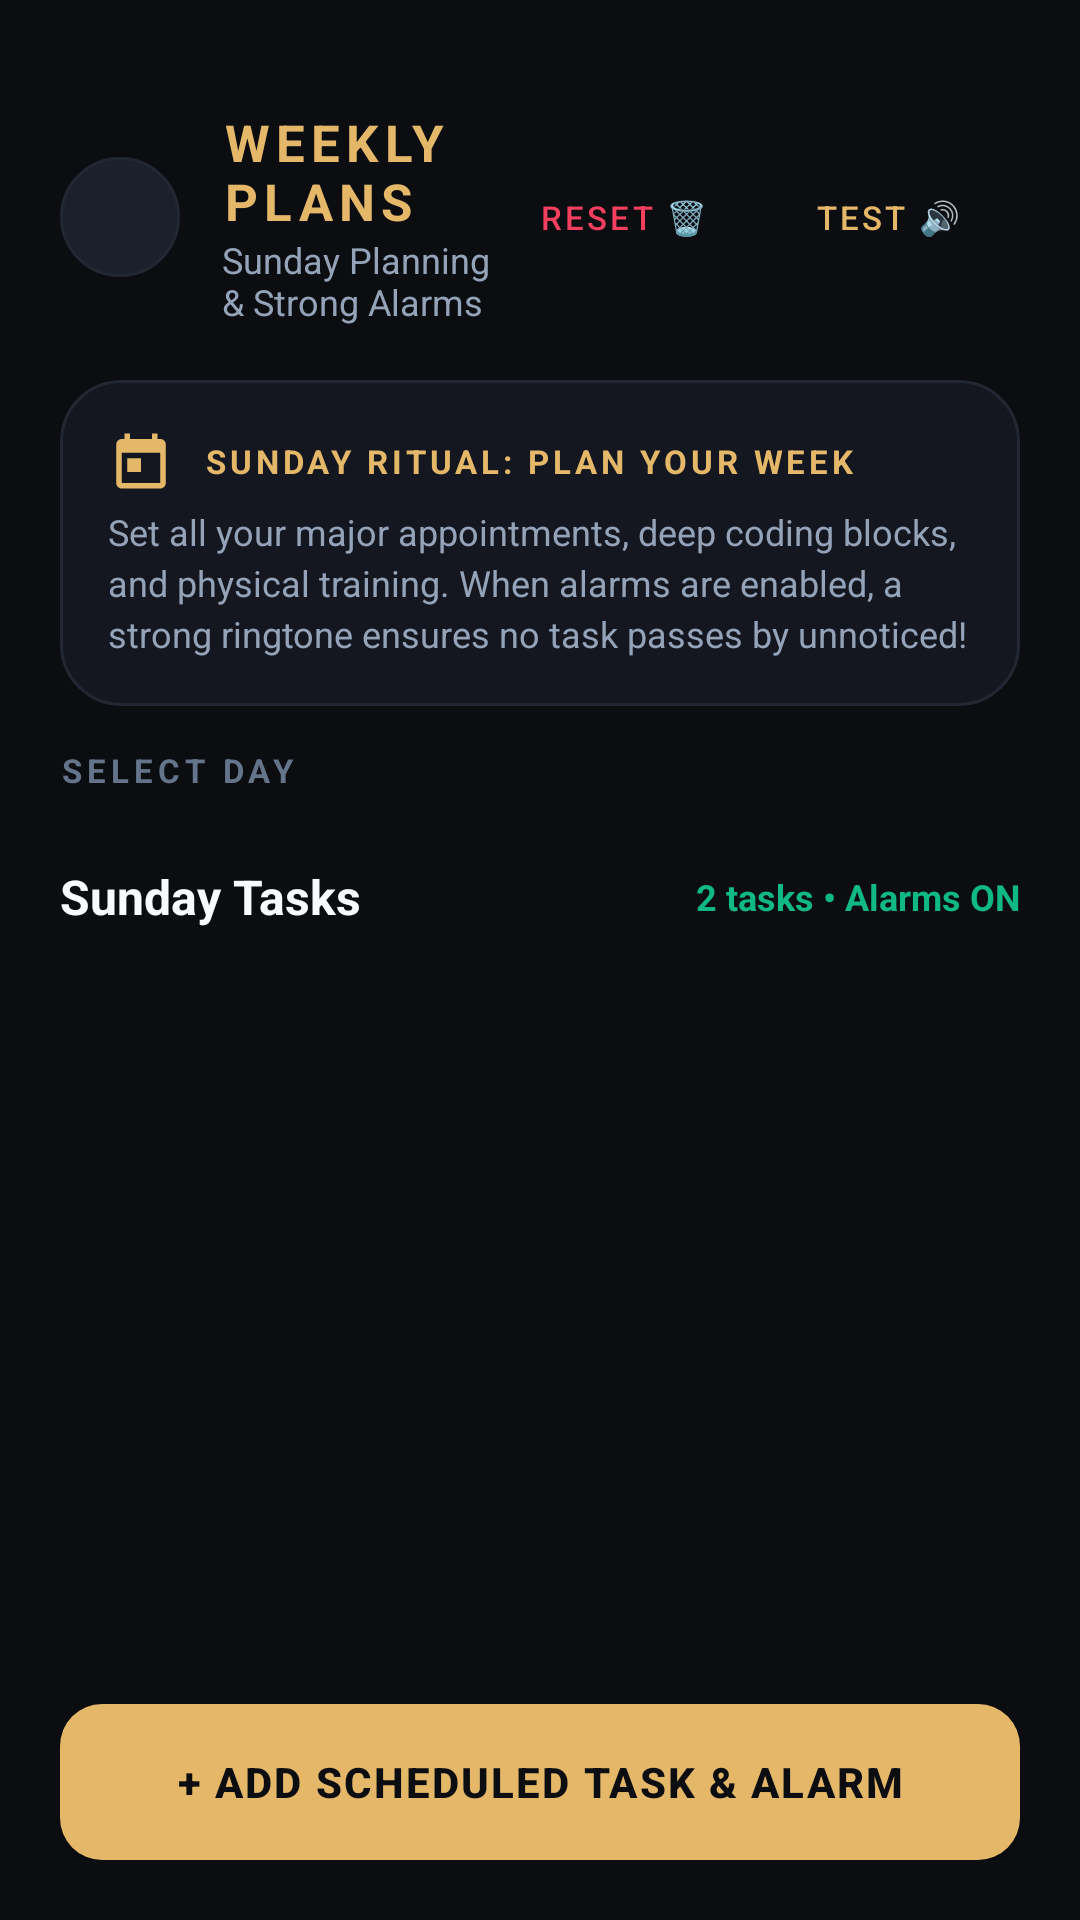

Icon bounding boxes for this 1080w x 1920h phone screenshot, format bbox=(x1, y1, x2, y2):
Calendar: bbox=(116, 433, 166, 489)
